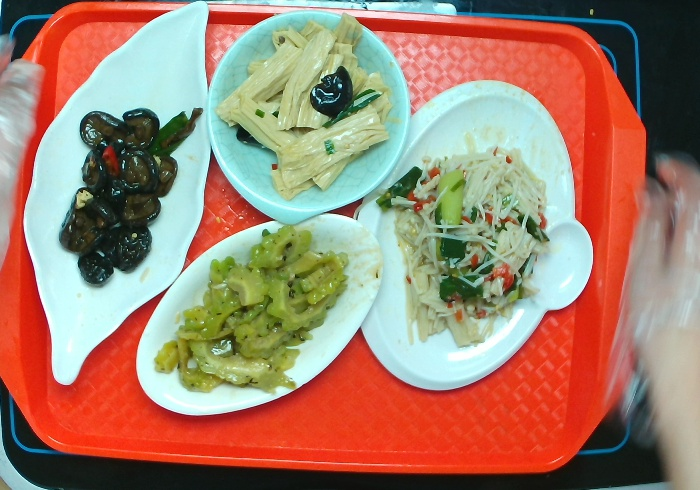RJxy-Bai_Se_Tuo_Yuan: (134, 211, 384, 417)
RJxy-Shu_Ye_Pan: (22, 1, 214, 387)
RJxy-Xiao_Jiao_Yuan_Wan: (205, 8, 412, 226)
RJxy-Zhan_Liao_Pan: (355, 77, 595, 391)
